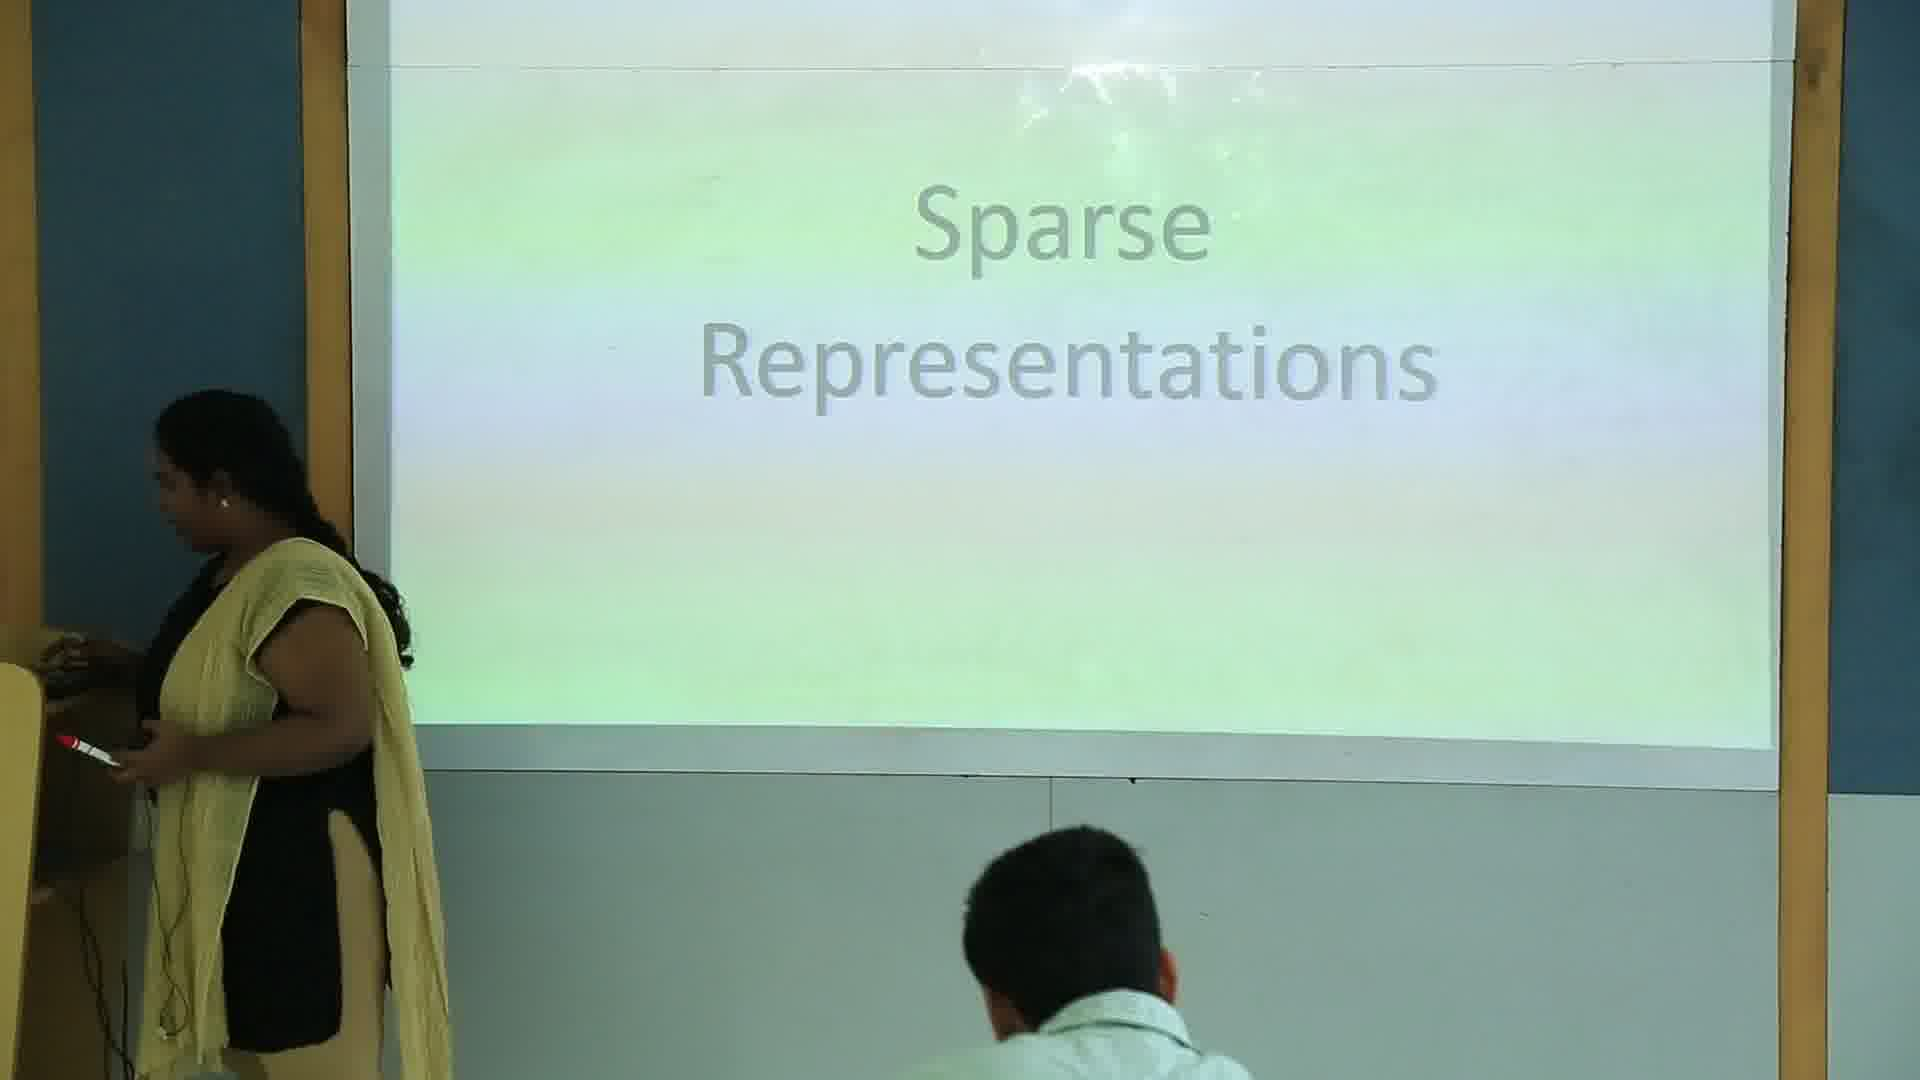slide: (388, 5, 1774, 750)
